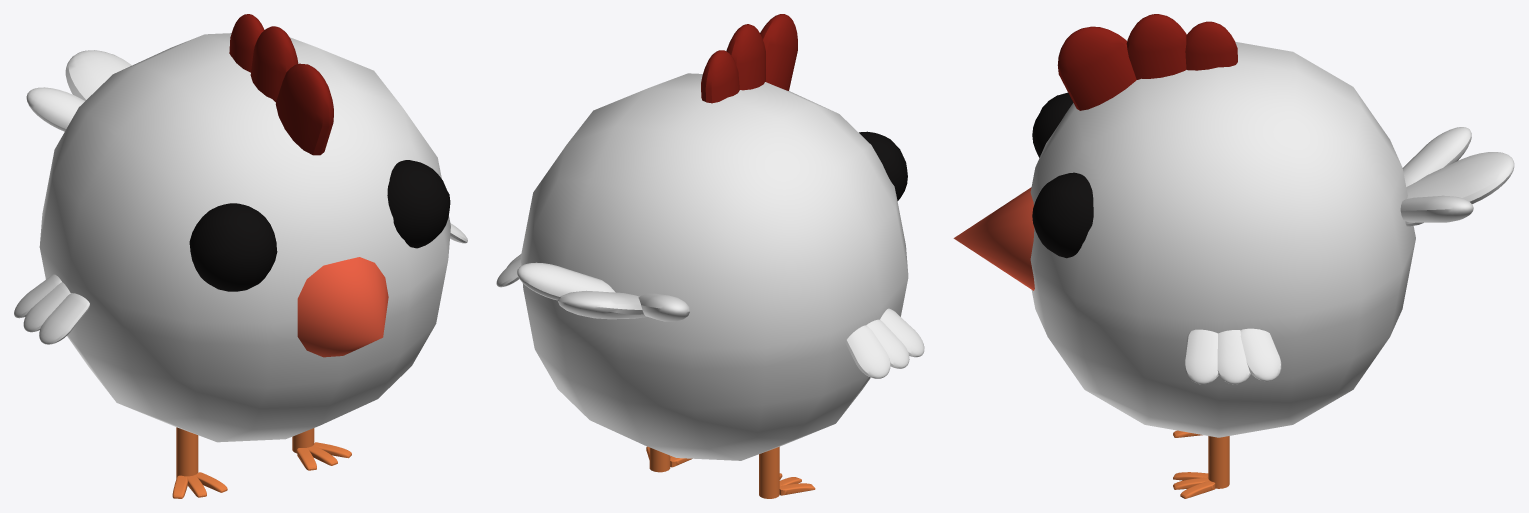
Rendered from Chicken.fbx.
3 renders of one model, left to right at view 1: azimuth 30°, elevation 25°; view 2: azimuth 150°, elevation 25°; view 3: azimuth 270°, elevation 25°, orthographic. The views are drawn at different scales.
Parts seen in each view (by area): view 1: Chicken.009; view 2: Chicken.009; view 3: Chicken.009.
Part boxes in pixels (bbox=[...]): Chicken.009: bbox=[14, 14, 467, 498]; Chicken.009: bbox=[496, 14, 924, 498]; Chicken.009: bbox=[953, 14, 1514, 498].
Bounding box in the file's own units: 140 × 146 × 167.
Materials: 1 (1 with a texture image).
